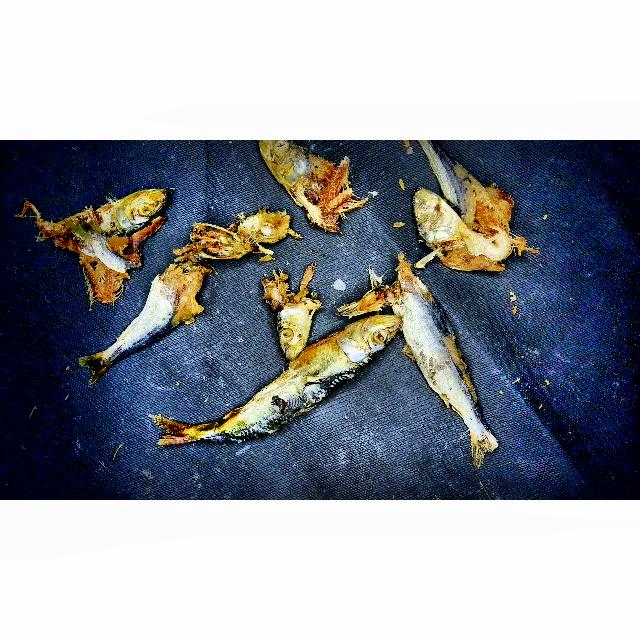Rejected_Body: (233, 336, 357, 446), (120, 257, 211, 356), (422, 144, 515, 227)
Rejected_Head: (21, 177, 176, 307), (250, 141, 365, 227), (183, 204, 298, 277), (400, 182, 487, 276), (252, 261, 330, 358), (325, 307, 409, 372)
Rejected_Tail: (364, 253, 479, 412), (139, 397, 238, 454), (62, 325, 131, 395), (447, 399, 501, 476)
